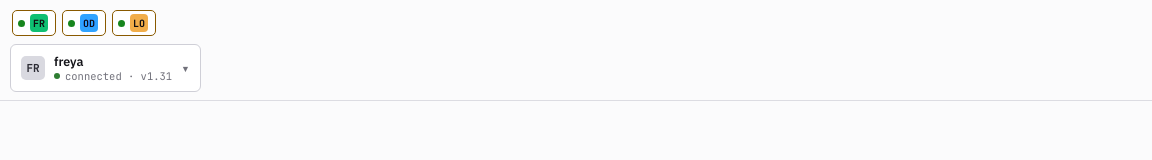
it: ClusterSwitcher (B83) › switching clusters retains the outgoing cluster's rows and swaps the view
Click the button titled "odin-staging": {"x": 84, "y": 23} [62, 10, 106, 36]
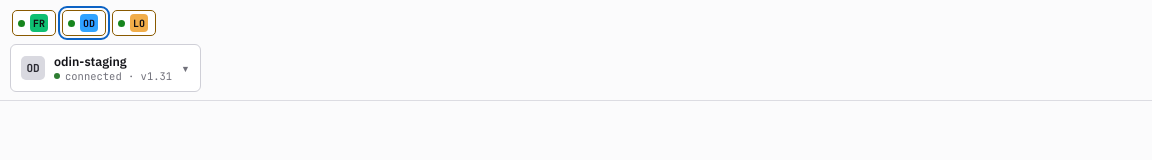
Expected: the text "odin-staging" is shown, [54, 53, 127, 69]
